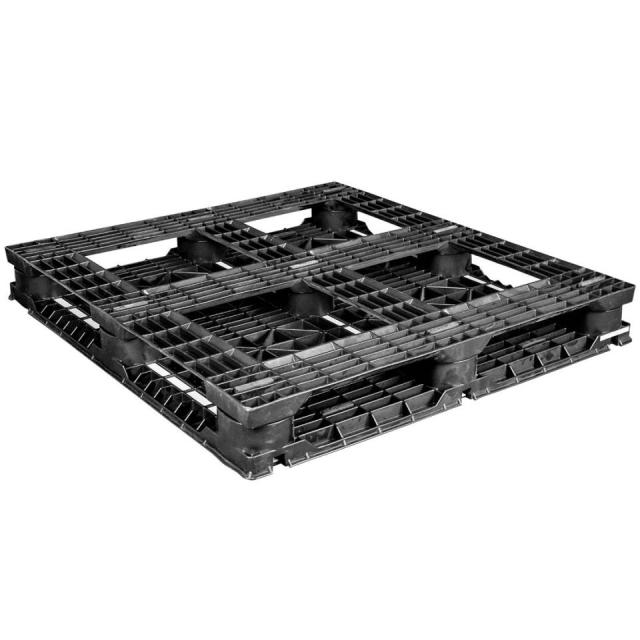non-igps: (4, 178, 637, 483)
